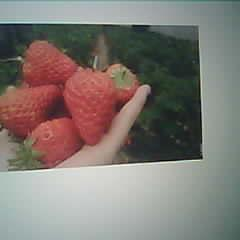straw-ripe: (65, 71, 113, 146), (0, 85, 60, 138), (23, 39, 77, 84)
